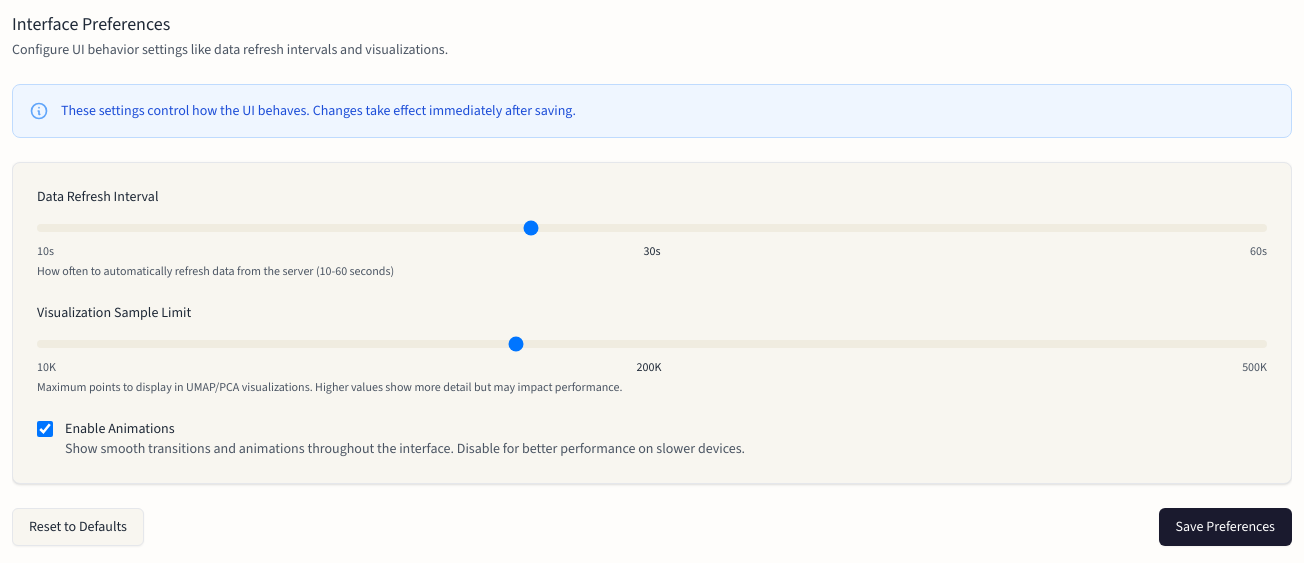
InterfaceSettings › updates form state when visualization sample limit slider changes
// Change to 300000
Set the slider below "Visualization Sample Limit" to "300000": (763, 344) [37,340,1267,348]
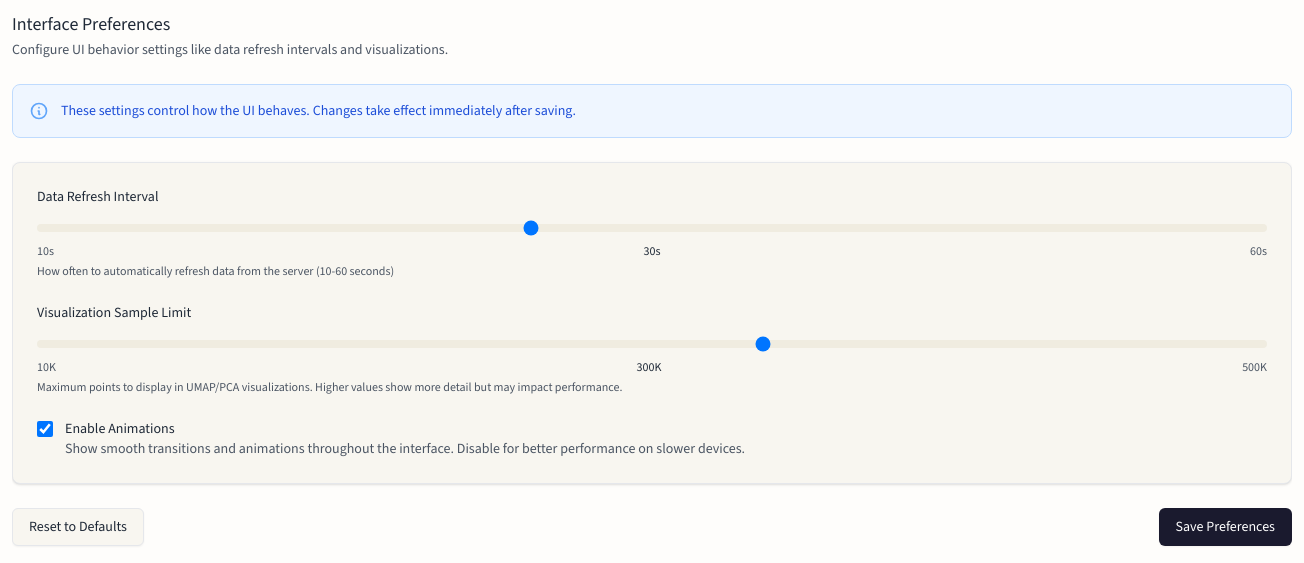
Check: the text "300K" is shown, box [637,359,661,375]
